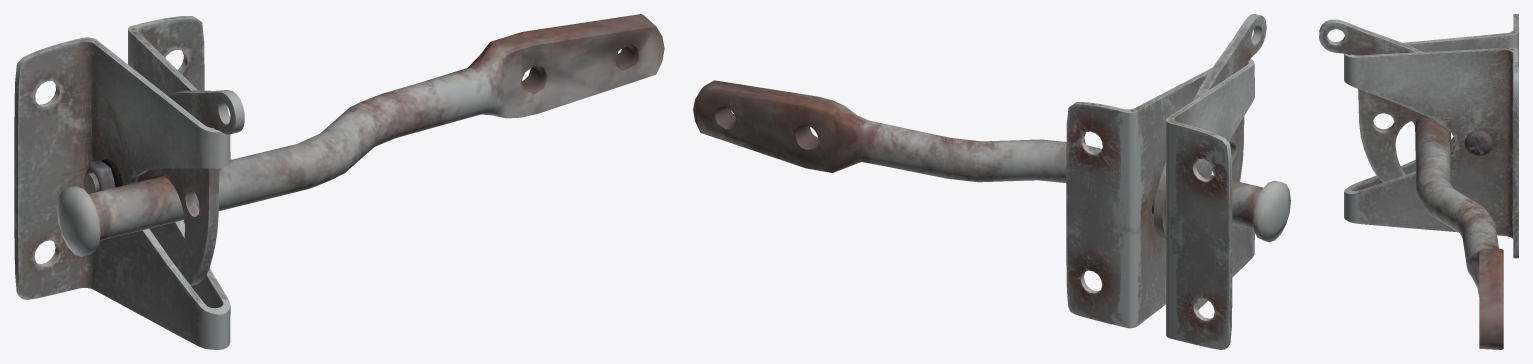
Rendered from gate_latch_01.glb.
3 renders of one model, left to right at view 1: azimuth 30°, elevation 25°; view 2: azimuth 150°, elevation 25°; view 3: azimuth 270°, elevation 25°, orthographic. The views are drawn at different scales.
Parts seen in each view (by area): view 1: gate_latch_01_frame, gate_latch_01_latch, gate_latch_01_hook; view 2: gate_latch_01_frame, gate_latch_01_latch, gate_latch_01_hook; view 3: gate_latch_01_frame, gate_latch_01_latch, gate_latch_01_hook.
Boxes of the visible parts, x1=… form: gate_latch_01_frame: x1=14, y1=16, x2=230, y2=349; gate_latch_01_latch: x1=57, y1=14, x2=664, y2=256; gate_latch_01_hook: x1=137, y1=90, x2=244, y2=285; gate_latch_01_frame: x1=1066, y1=59, x2=1254, y2=349; gate_latch_01_latch: x1=693, y1=80, x2=1290, y2=242; gate_latch_01_hook: x1=1153, y1=14, x2=1266, y2=240; gate_latch_01_frame: x1=1344, y1=14, x2=1518, y2=258; gate_latch_01_latch: x1=1412, y1=118, x2=1503, y2=349; gate_latch_01_hook: x1=1319, y1=19, x2=1430, y2=182.
Size of the model in its own units: 0.205 by 0.0854 by 0.0747.
Materials: 1 (1 with a texture image).
